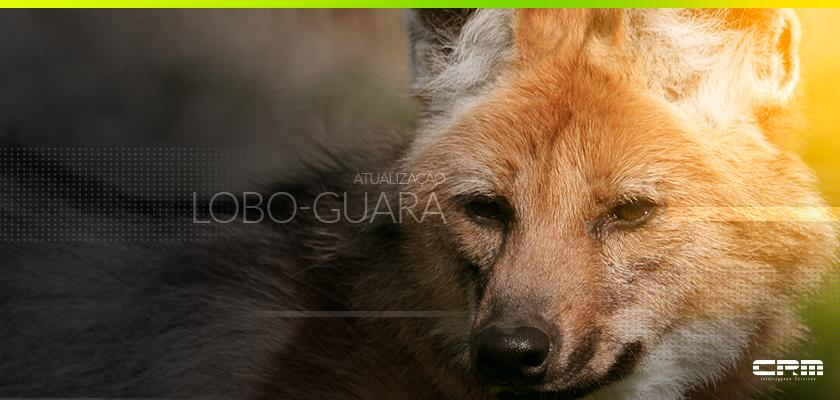LoboGuara: (387, 14, 801, 369)
